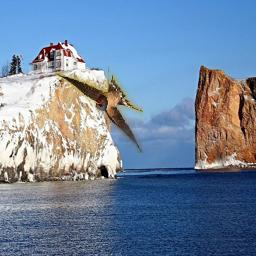Swallow: (55, 67, 143, 154)
